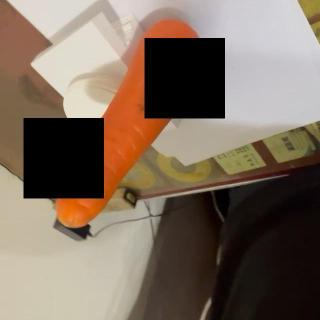carrot: (56, 17, 204, 229)
